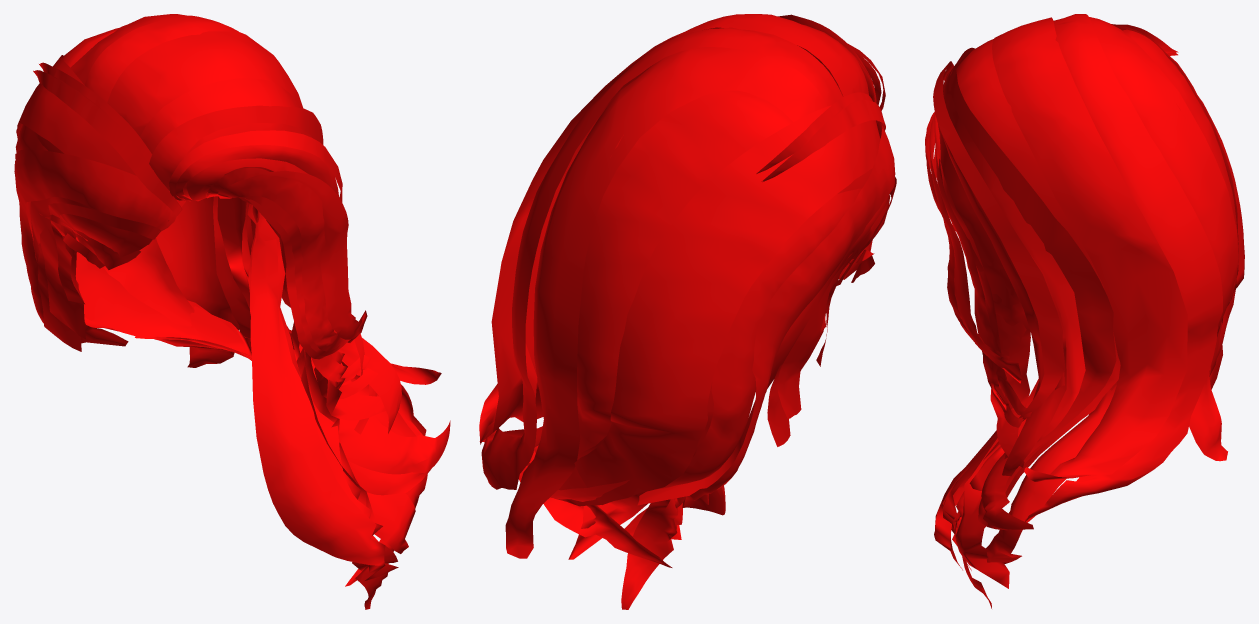
The model's file is elvs_adrienne_hair_M.glb.
3 views of the same model, side by side, from view 1: azimuth 30°, elevation 25°; view 2: azimuth 150°, elevation 25°; view 3: azimuth 270°, elevation 25° (orthographic). The views are drawn at different scales.
Size of the model in its own units: 0.3399 by 0.4965 by 0.2789.
1 material, 1 textured.
